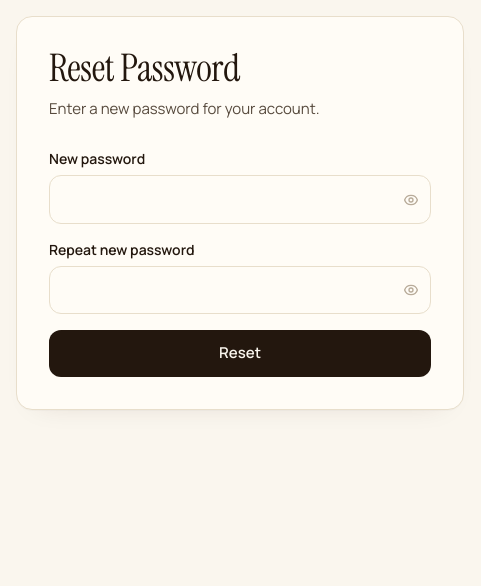
Scenario: ResetPassword page › shows "New passwords do not match." when passwords differ
Type "Password1!" into the password field labelled "New password".
click(240, 200); type("Password1!")  # box [49,175,431,224]
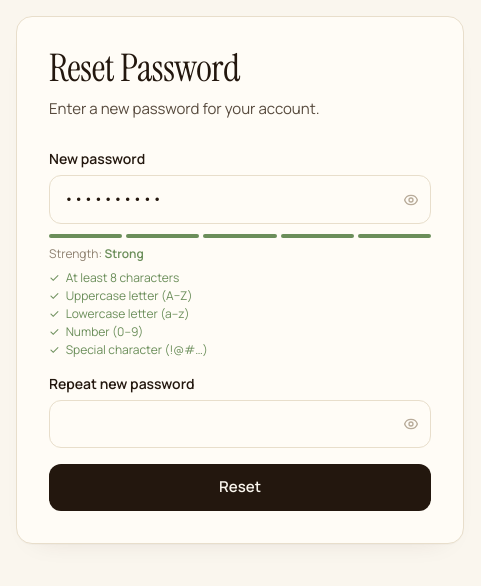
Type "Password2!" into the password field labelled "Repeat new password".
click(240, 424); type("Password2!")  # box [49,400,431,448]
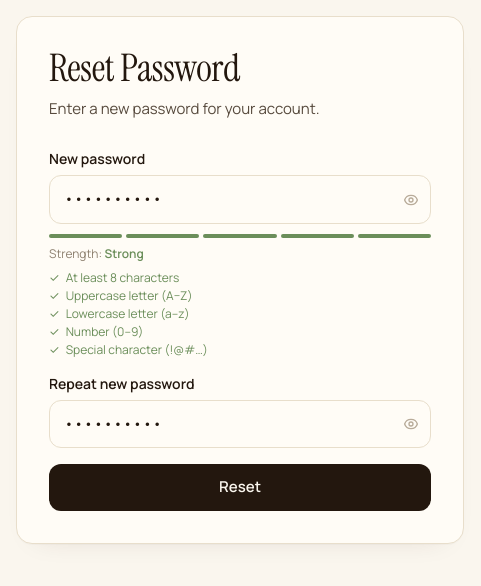
Submit the form named "reset", box [49,149,431,511]
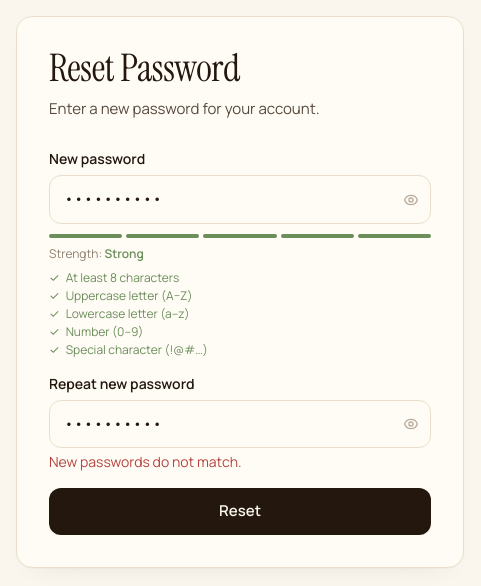
Check: the text "New passwords do not match." is shown, box [49,452,242,471]
